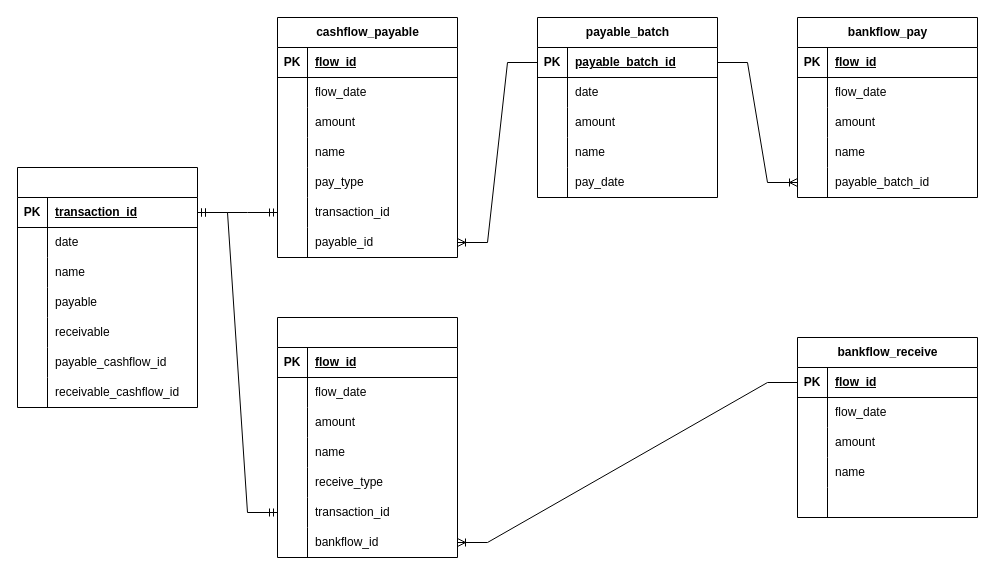
Image size: 995x575. Some labels were removed from this diagram. Each missing label, with the box of its shape:
cashflow_receivable: (276, 316, 458, 558)
transaction_data: (16, 166, 198, 408)
